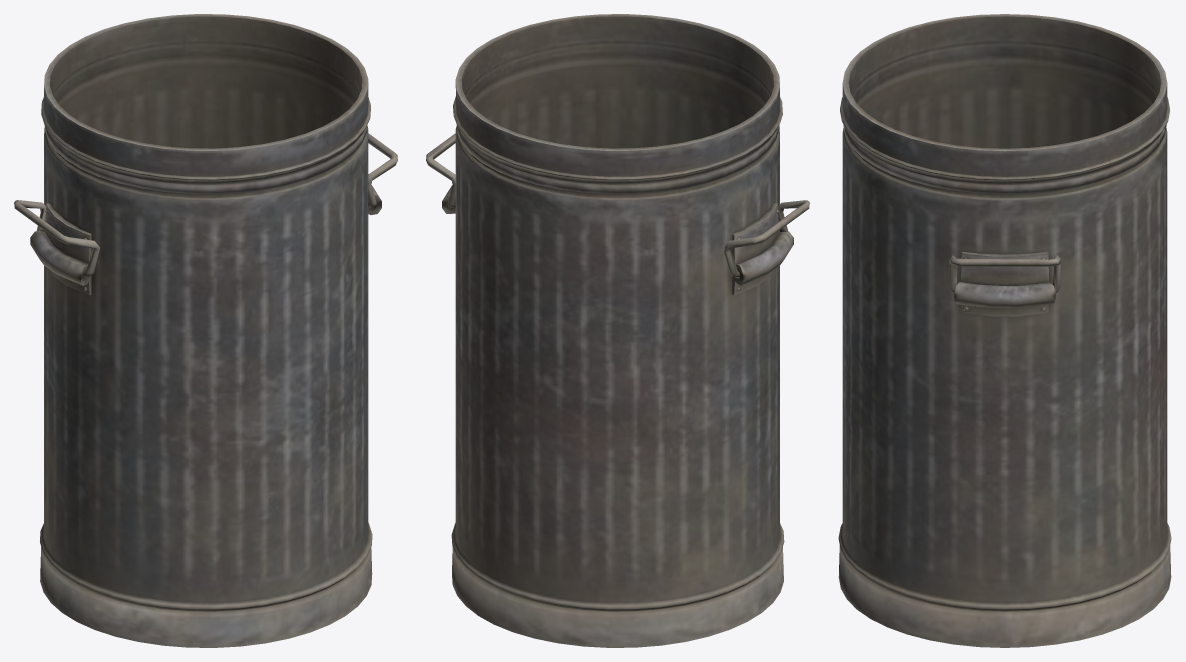
The model's file is trash_can.glb.
3 renders of one model, left to right at view 1: azimuth 30°, elevation 25°; view 2: azimuth 150°, elevation 25°; view 3: azimuth 270°, elevation 25°, orthographic.
Parts seen in each view (by area): view 1: metal_trash_can_handle_left; view 2: metal_trash_can_handle_left; view 3: metal_trash_can_handle_left.
Boxes of the visible parts, x1,y1,x2,y2 form: metal_trash_can_handle_left: [14, 14, 397, 647]; metal_trash_can_handle_left: [426, 14, 809, 647]; metal_trash_can_handle_left: [838, 14, 1171, 647].
Size of the model in its own units: 0.6495 by 0.9062 by 0.5524.
1 material, 1 textured.
